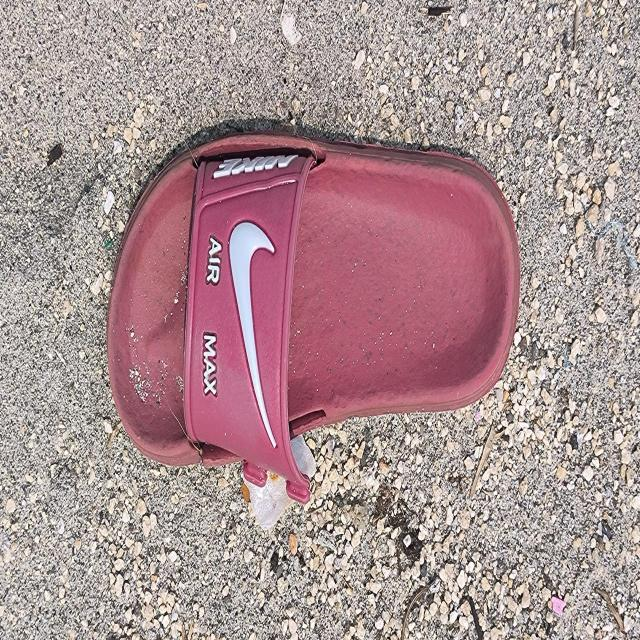rubber_waste: (105, 125, 523, 505)
